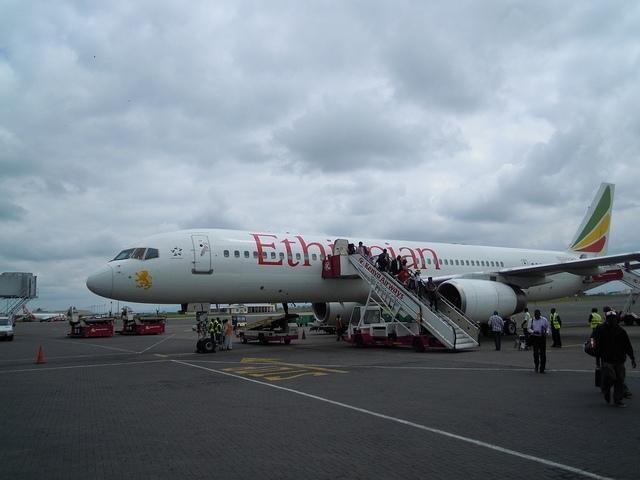car: (0, 316, 13, 340)
truck: (234, 314, 300, 344), (67, 316, 115, 338), (0, 316, 15, 340)
